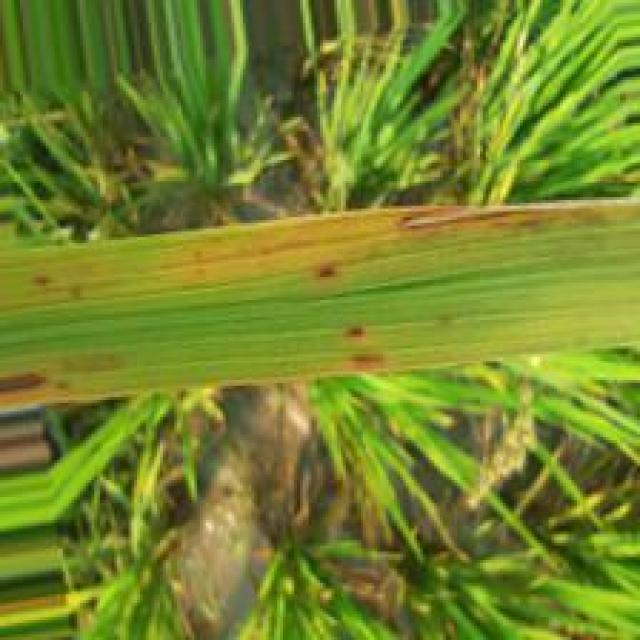Brown_Spot: (400, 209, 636, 228), (0, 369, 62, 401), (353, 356, 378, 368), (319, 264, 340, 278), (349, 326, 365, 339)
